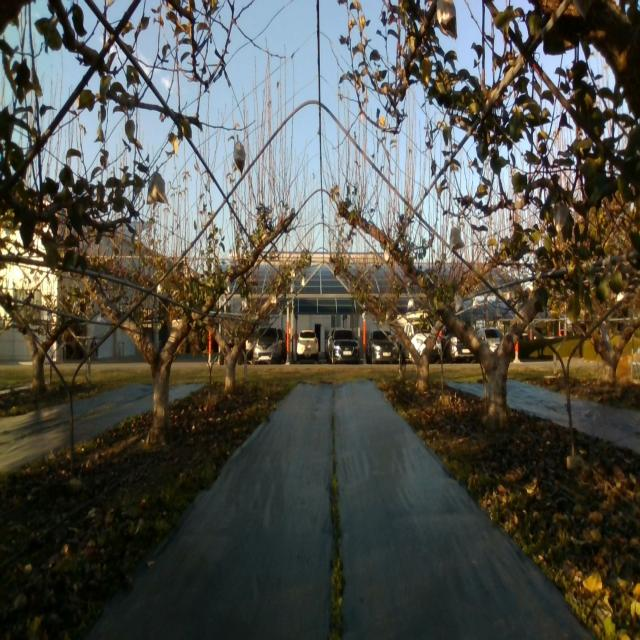pearbags: (435, 0, 457, 40), (553, 201, 573, 243), (147, 173, 169, 205), (233, 138, 245, 176), (450, 227, 464, 252), (454, 294, 464, 313)
